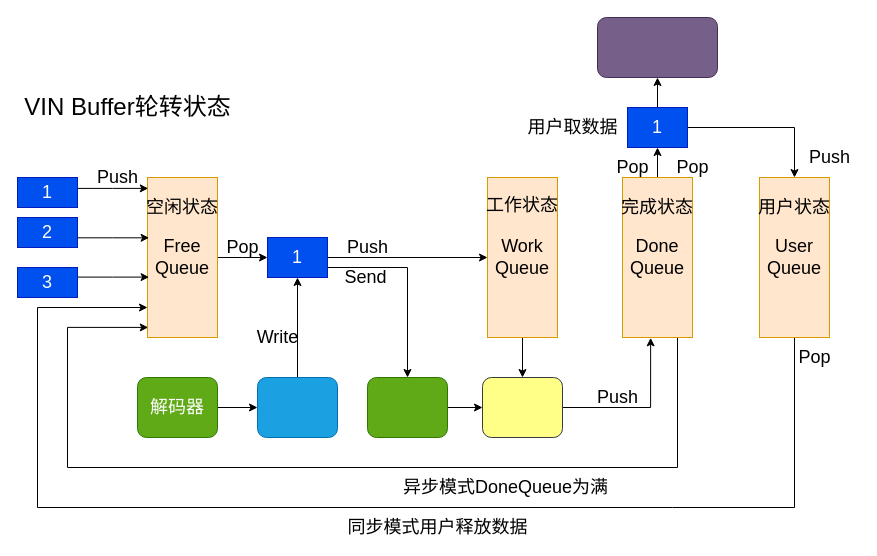
The diagram is 877 pixels wide and 556 high, and some of its shapes have lost their labels. The shapes that lost their labels are listed below. From the top down, each one's centre as x and y in pixels, then its label:
point 657,47: USER
point 297,407: frame data (nv12)
point 407,407: VPS
point 522,407: 匹配frame_id
